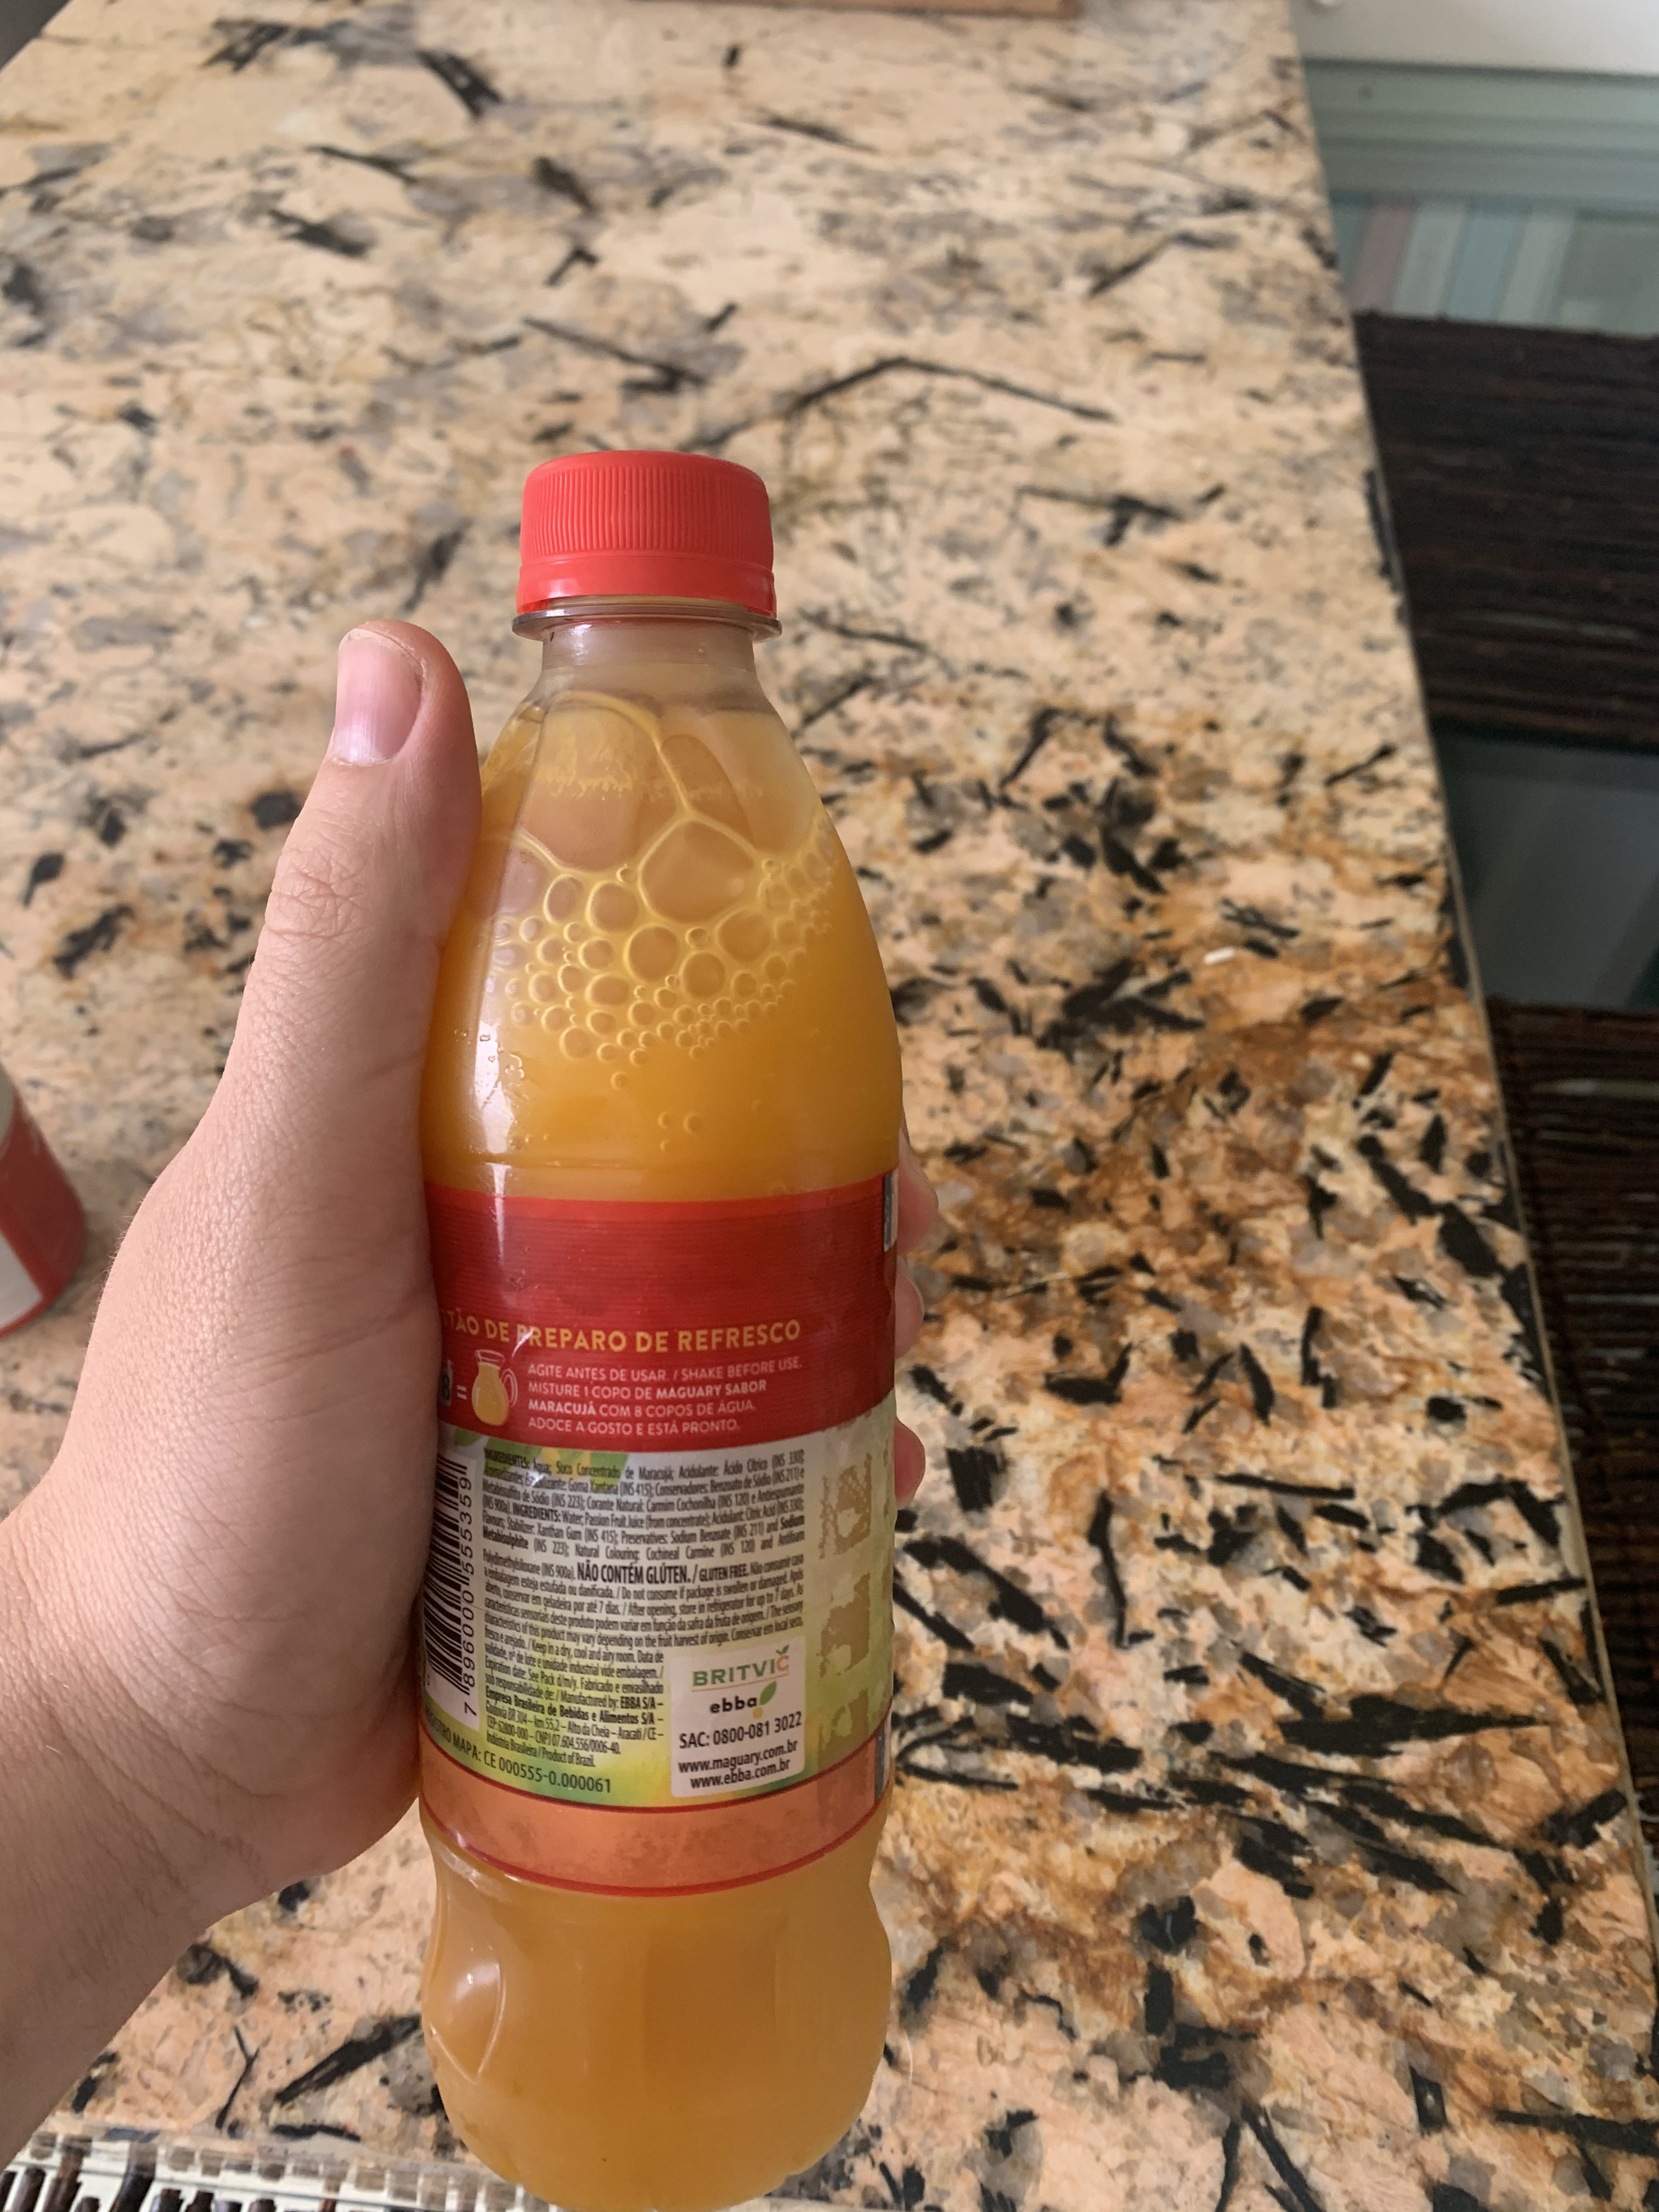maguary: (369, 387, 969, 2207)
